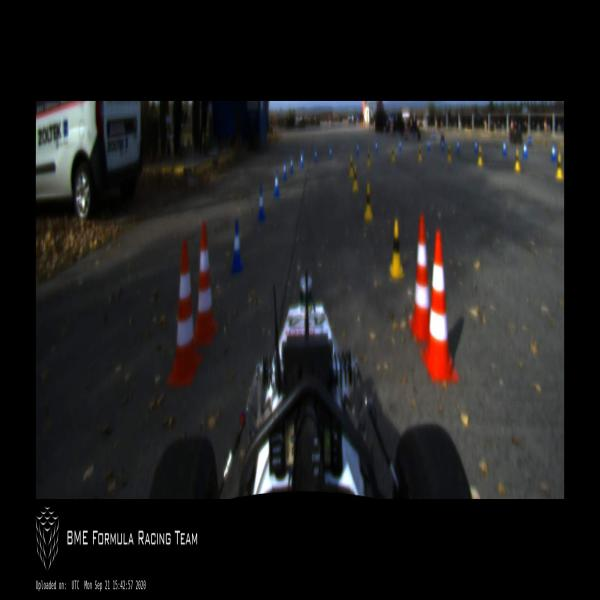blue_cone: (230, 220, 244, 270), (258, 186, 266, 222), (273, 169, 280, 197), (522, 138, 528, 158), (289, 155, 294, 174), (502, 139, 507, 155), (283, 160, 287, 180), (551, 141, 555, 160), (474, 137, 478, 153), (314, 148, 318, 162), (441, 138, 445, 151), (456, 139, 460, 152), (300, 151, 303, 166), (329, 146, 332, 160), (399, 140, 402, 153), (375, 141, 378, 153), (357, 143, 360, 155), (428, 138, 430, 152)
large_orange_cone: (421, 230, 459, 380), (166, 239, 202, 386), (193, 222, 219, 346), (409, 215, 434, 342)
yellow_cone: (389, 219, 404, 281), (363, 183, 373, 222), (352, 164, 360, 194), (348, 153, 355, 182), (556, 153, 563, 179), (514, 147, 520, 173), (477, 143, 483, 166), (390, 145, 396, 162), (366, 147, 371, 166), (418, 142, 422, 162), (447, 146, 451, 163)
